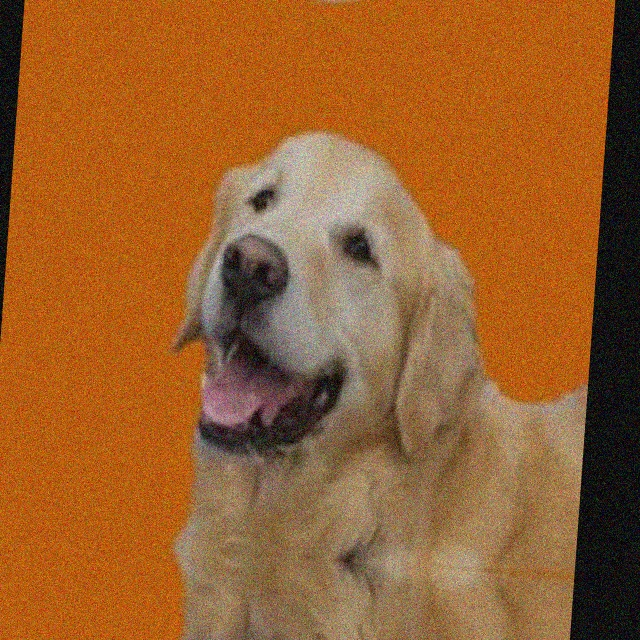dog: (156, 107, 489, 528), (144, 585, 455, 640), (191, 0, 501, 26)
